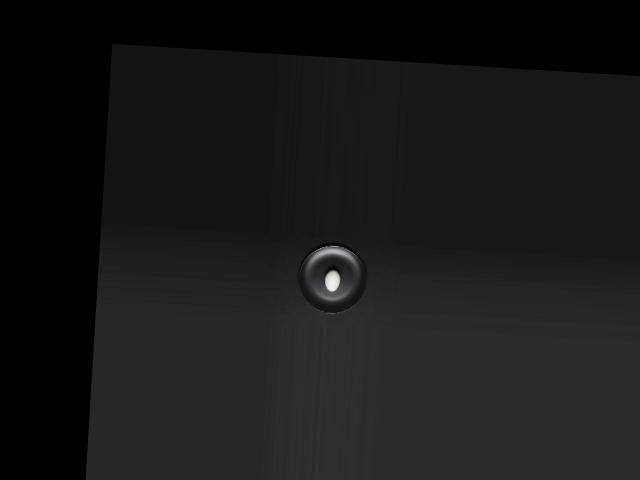egg: (324, 269, 341, 291)
